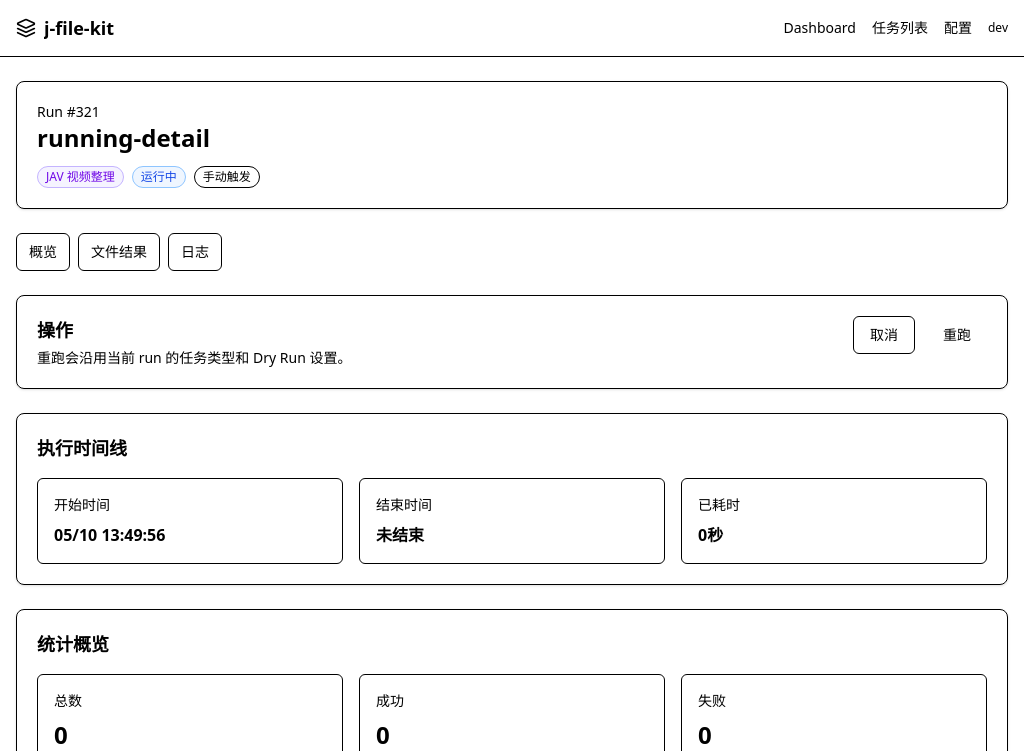
Scenario: Task detail page › shows error message when cancel API fails
Click the button "取消" at (884, 335), box [853,316,915,354]
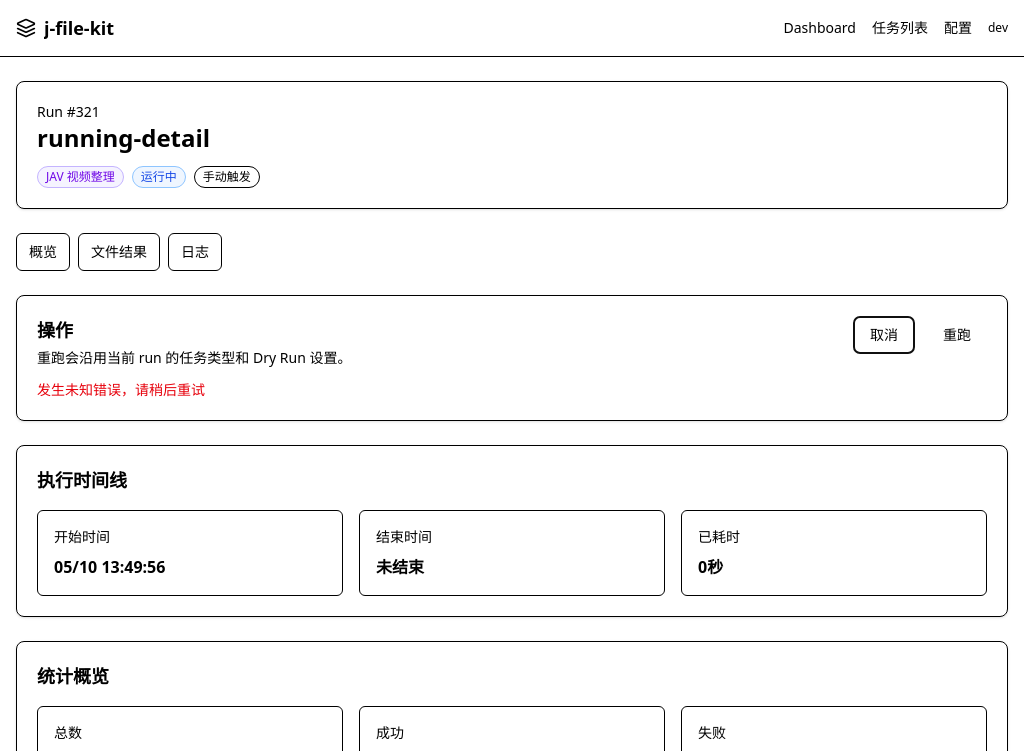
Result: the text "发生未知错误，请稍后重试" is shown at [37,380,205,399]
